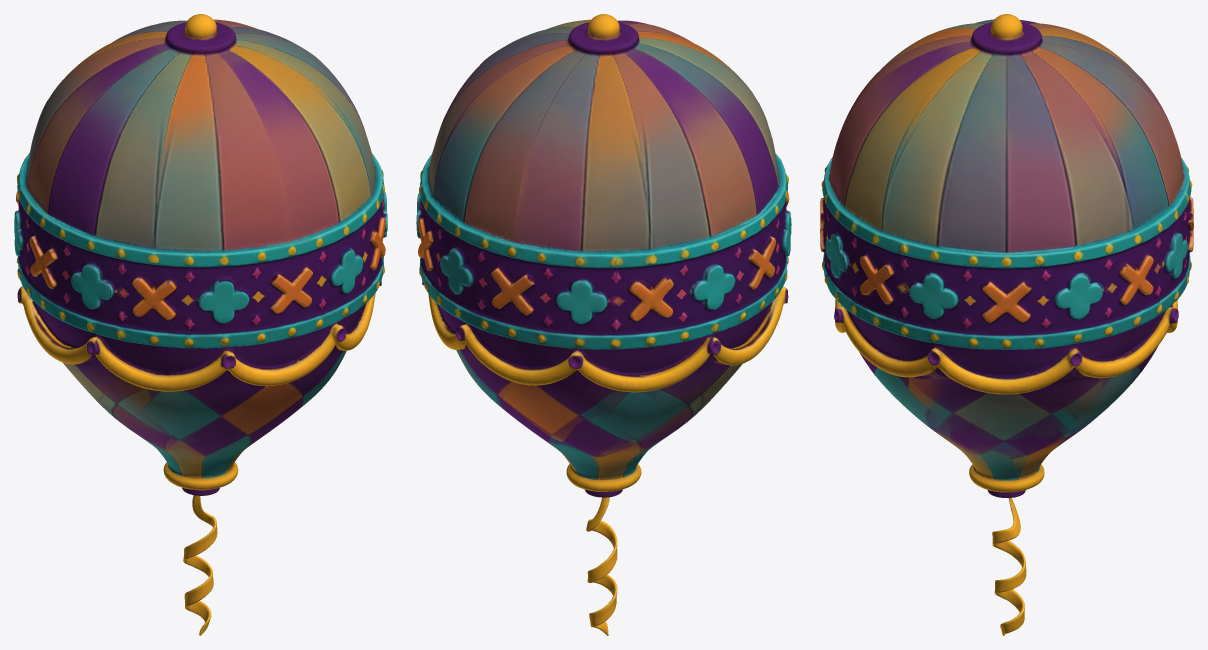
The model's file is balloon-carnival-20.glb.
3 views of the same model, side by side, from view 1: azimuth 30°, elevation 25°; view 2: azimuth 150°, elevation 25°; view 3: azimuth 270°, elevation 25° (orthographic).
Visible parts, largest first — view 1: mesh_node; view 2: mesh_node; view 3: mesh_node.
Part boxes in pixels (x1,y1,x2,y2): mesh_node: [14, 14, 387, 635]; mesh_node: [416, 14, 791, 635]; mesh_node: [820, 14, 1193, 635].
Bounding box in the file's own units: 1.03 × 1.9 × 1.03.
1 material, 1 textured.
